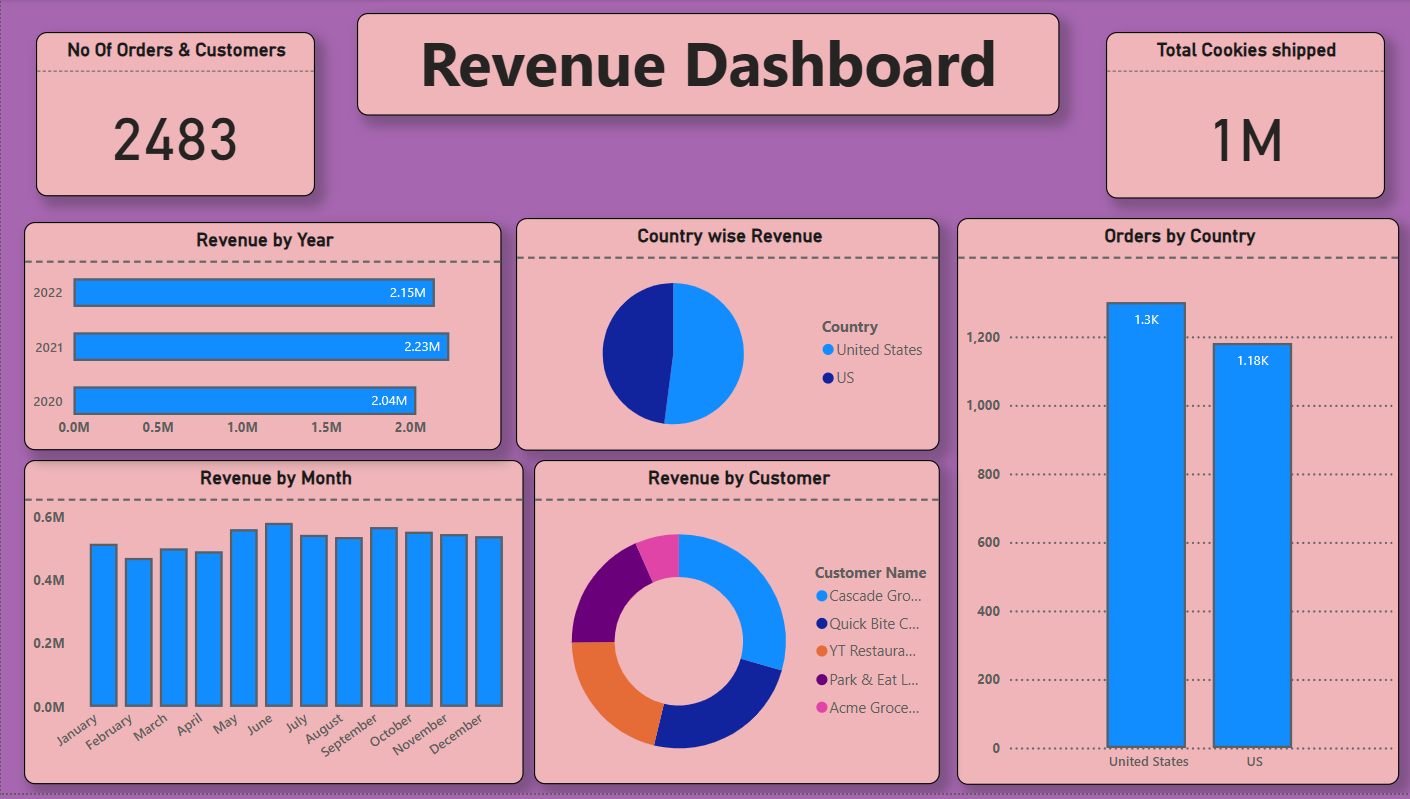

What the dashboard file says about the page in this screenshot:
{"tool":"powerbi","page":{"name":"Customers Dashboard","canvas":[1280,720],"ordinal":0},"visuals":[{"type":"card","title":"No Of Orders & Customers","fields":{"Values":["CountNonNull(Orders1.Customer ID)"]},"box":[32.1,30.2,252.9,148.8],"z":0},{"type":"card","title":"Total Cookies shipped","fields":{"Values":["Sum(Orders1.Cookies Shipped)"]},"box":[1001.8,30.2,252.9,150.8],"z":1000},{"type":"columnChart","title":"Revenue by Month","fields":{"Category":["Orders1.Order Date.Variation.Date Hierarchy.Month"],"Y":["Sum(Orders1.Revenue)"]},"box":[20.4,418.2,453.3,293.7],"z":2000},{"type":"barChart","title":"Revenue by Year","fields":{"Y":["Sum(Orders1.Revenue)"],"Category":["Orders1.Order Date.Variation.Date Hierarchy.Year"]},"box":[20.4,202.3,432.8,207.2],"z":3000},{"type":"pieChart","title":"Country wise Revenue ","fields":{"Y":["Sum(Orders1.Revenue)"],"Category":["Customers2.Country"]},"box":[466.9,198.4,384.2,211.1],"z":3001},{"type":"lineClusteredColumnComboChart","title":"Orders by Country","fields":{"Category":["Customers2.Country"],"Y":["CountNonNull(Orders1.Order ID)"]},"box":[866.6,198.4,400.7,513.6],"z":3002},{"type":"donutChart","title":"Revenue by Customer","fields":{"Category":["Customers2.Customer Name"],"Y":["Sum(Orders1.Revenue)"]},"box":[483.4,418.2,367.7,293.7],"z":3003},{"type":"textbox","box":[322.9,12.6,637.1,93.4],"z":3004}]}

Visuals, with their boxes in screenshot pixels (x1, y1, x2, y2), scaled from the page's 1280x720 canvas onto the 1410x799 screenshot:
"No Of Orders & Customers" card: [35,34,314,199]
"Total Cookies shipped" card: [1104,34,1382,201]
"Revenue by Month" columnChart: [22,464,522,790]
"Revenue by Year" barChart: [22,224,499,454]
"Country wise Revenue " pieChart: [514,220,938,454]
"Orders by Country" lineClusteredColumnComboChart: [955,220,1396,790]
"Revenue by Customer" donutChart: [532,464,938,790]
textbox: [356,14,1058,118]
